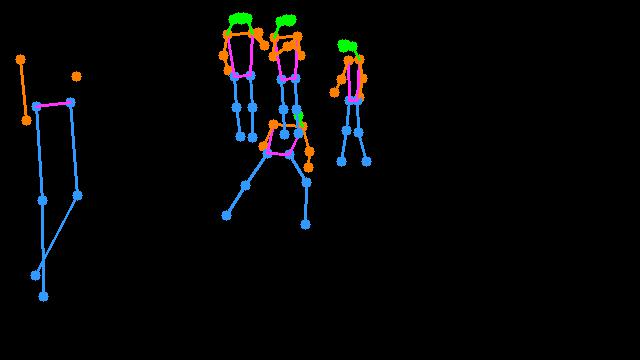normal: (322, 29, 383, 180)
